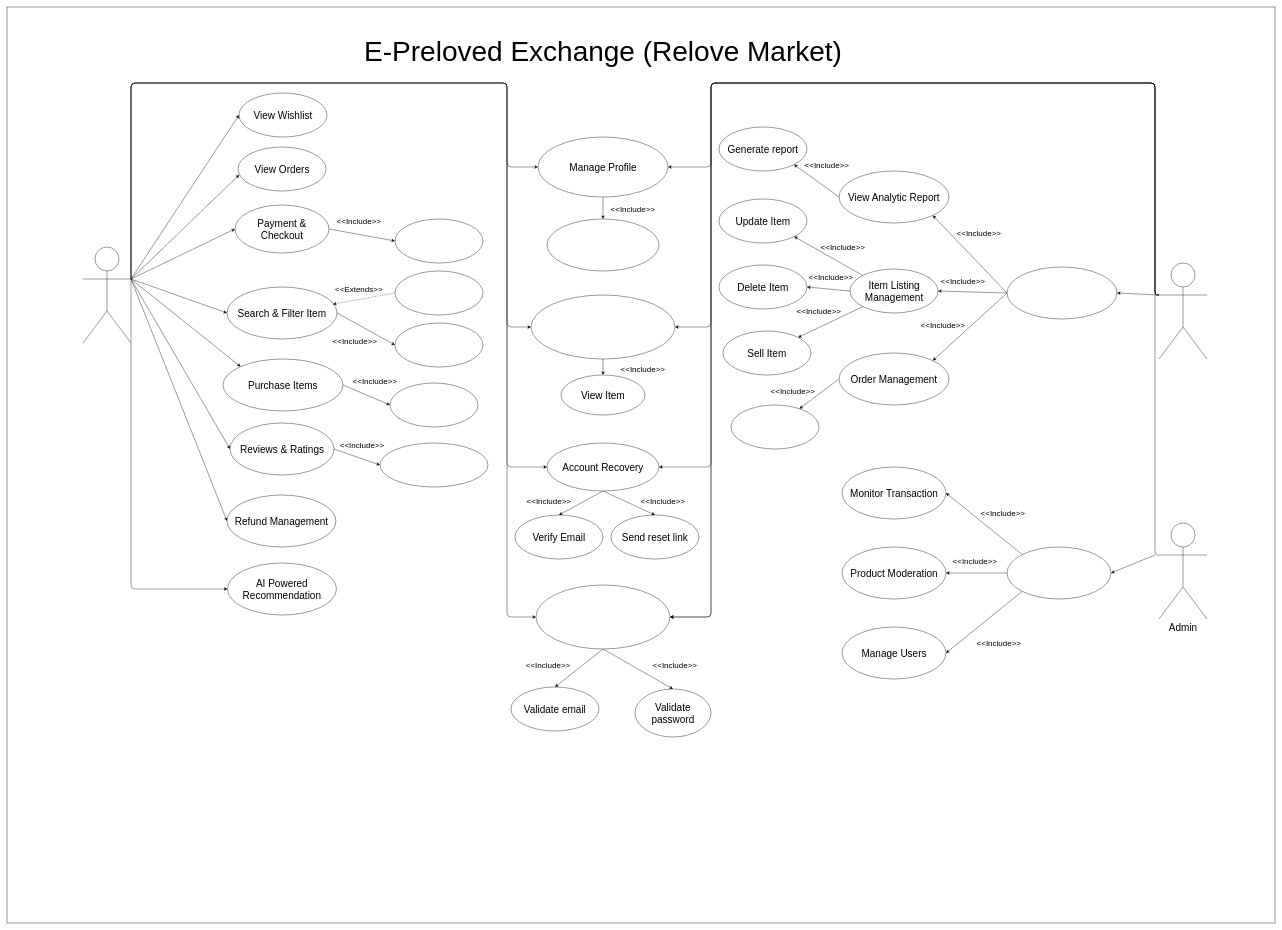
Some shapes in this 1282 by 930 pixel diagram are drawn without their labels. Each missing label, with the centre of its shape:
Accept terms: (434,405)
Admin Dashboard: (1059,573)
Buyers: (107,295)
Confirm Transactions: (439,241)
Image based search: (439,293)
Message & Negotiation: (603,327)
Receive Order: (775,427)
Seller Dashboard: (1062,293)
Sellers: (1183,311)
Smart Filtering: (439,345)
Submit Review and Ratings: (434,465)
Update personal information: (603,245)
User Registration & Authentication: (603,617)
